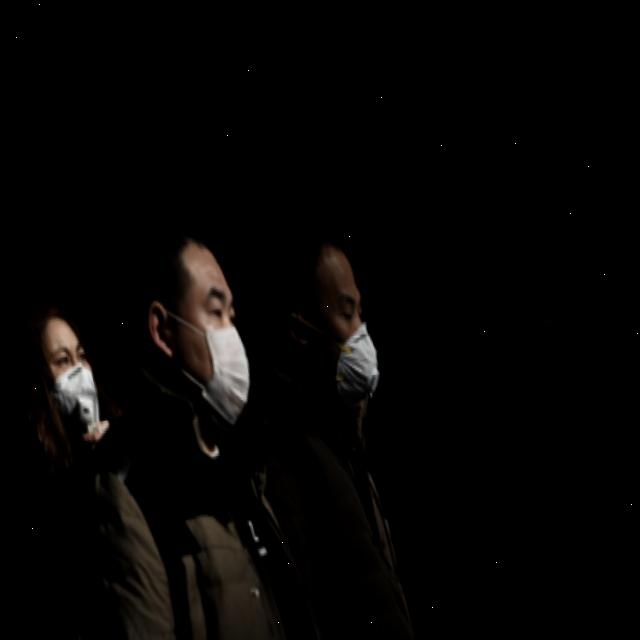Mask: (144, 288, 261, 435), (276, 296, 386, 418), (45, 362, 101, 434)
